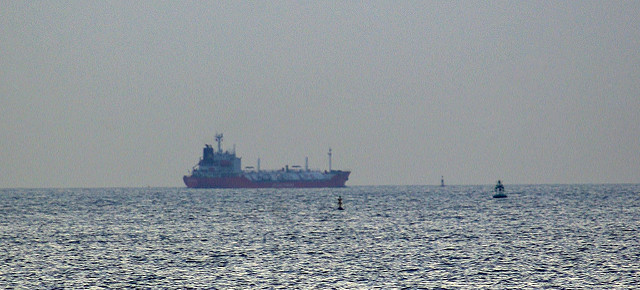LNG_ship: (181, 134, 353, 188)
